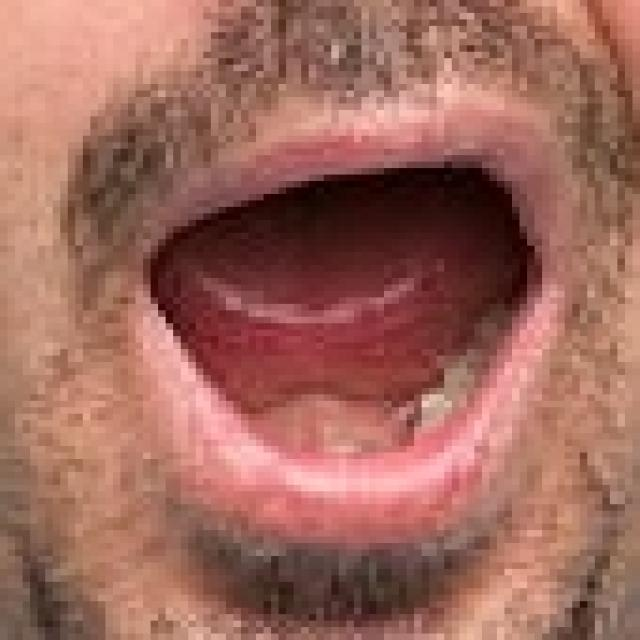open-mouth: (120, 90, 588, 550)
